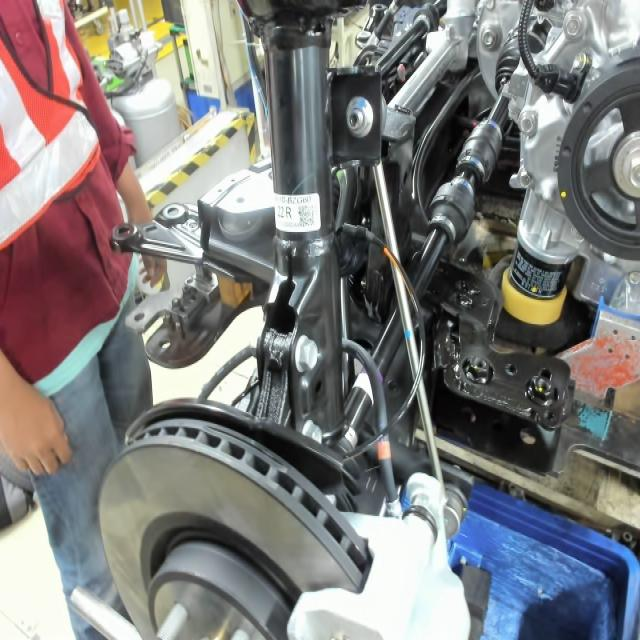Absorber RH-22: (274, 192, 316, 234)
Disc-HT: (118, 491, 287, 640)
Drive Shaft-UG: (349, 366, 382, 400)
